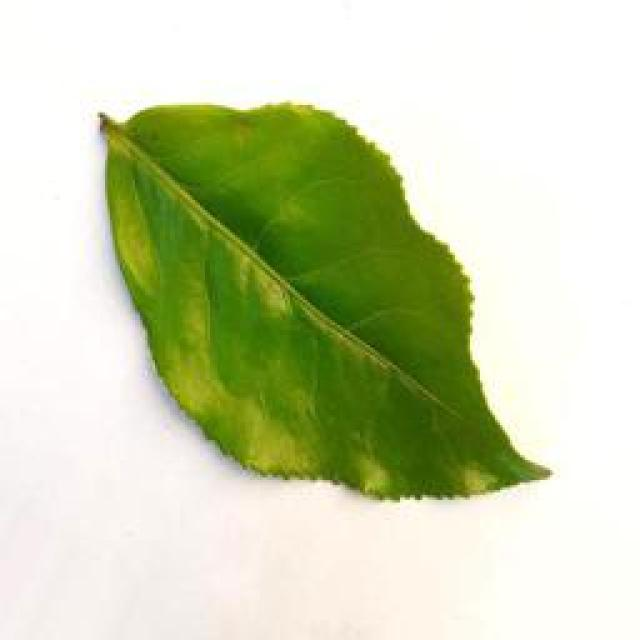Healthy: (93, 70, 572, 547)
